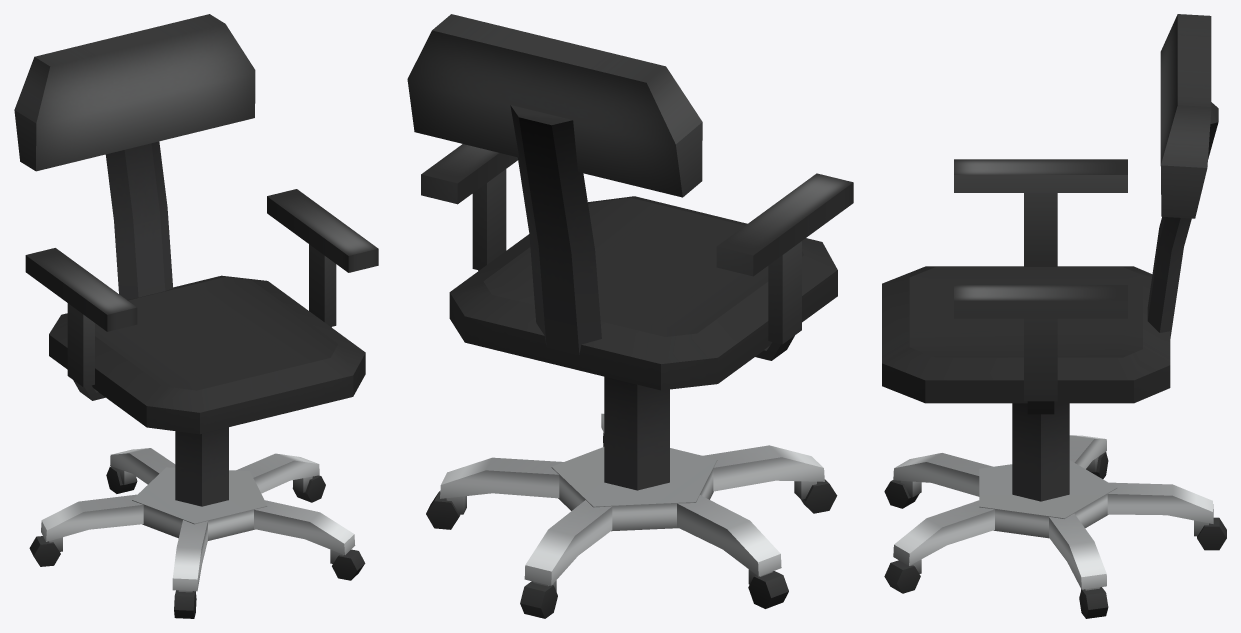
File: Chair_DeskChair.fbx
3 renders of one model, left to right at view 1: azimuth 30°, elevation 25°; view 2: azimuth 150°, elevation 25°; view 3: azimuth 270°, elevation 25°, orthographic. The views are drawn at different scales.
Parts seen in each view (by area): view 1: Chair_DeskChair; view 2: Chair_DeskChair; view 3: Chair_DeskChair.
Boxes of the visible parts, x1=… form: Chair_DeskChair: x1=14, y1=14, x2=378, y2=618; Chair_DeskChair: x1=407, y1=14, x2=853, y2=618; Chair_DeskChair: x1=882, y1=14, x2=1226, y2=618.
Size of the model in its own units: 69.71 by 104 by 66.73.
